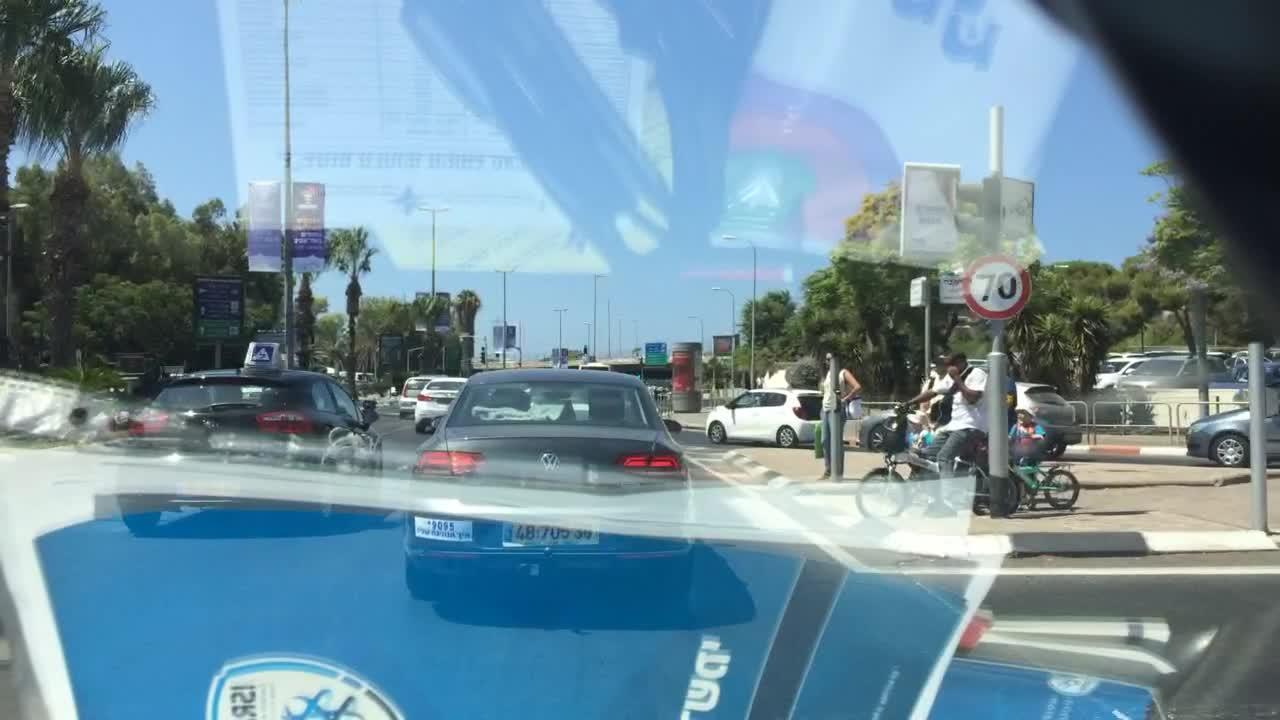Volkswagen: (537, 447, 564, 478)
